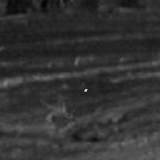Target: (83, 88, 88, 92)
